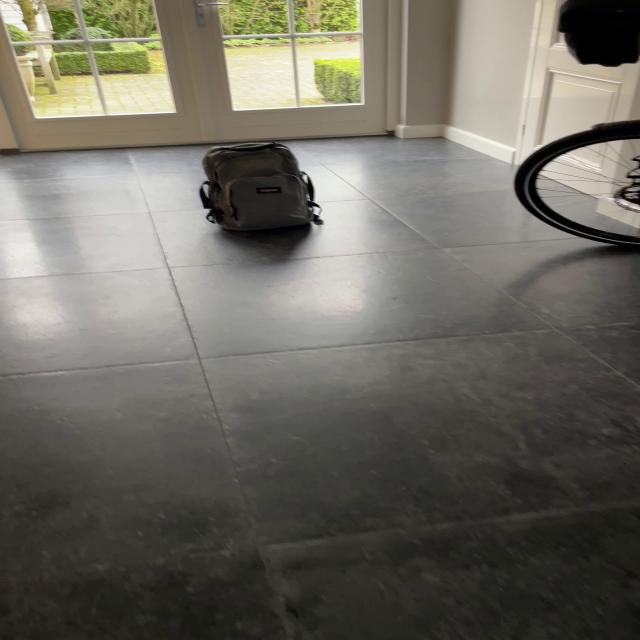backpack: (192, 137, 321, 236)
